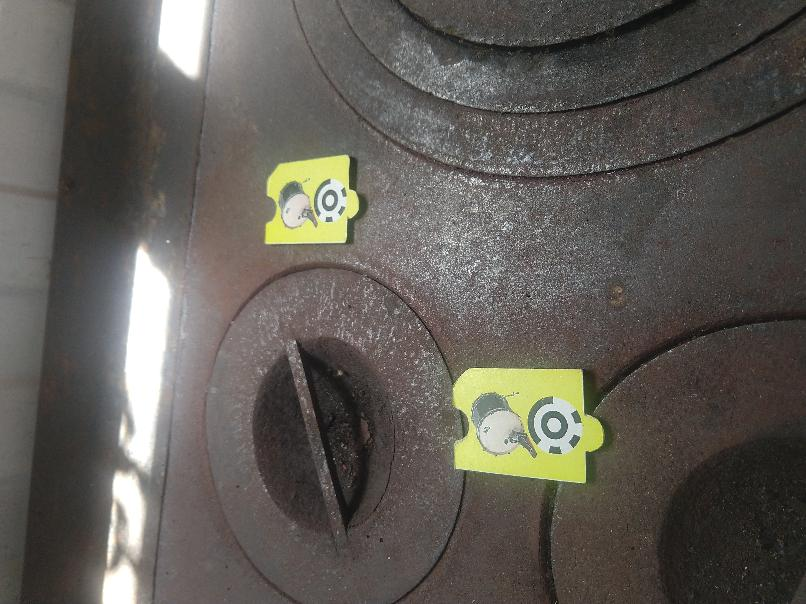bumbo: (451, 365, 608, 486), (257, 155, 364, 248)
